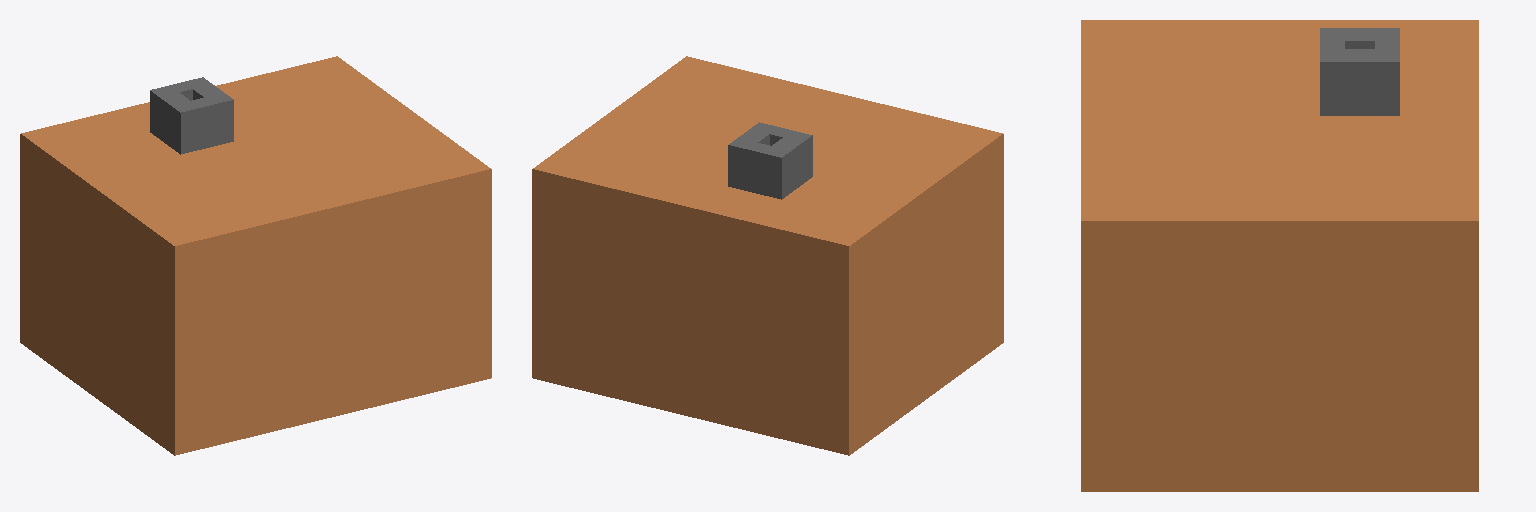
robot.urdf — peg_in_hole_scene_tol0p05mm:
<?xml version="1.0"?>
<robot name="peg_in_hole_scene_tol0p05mm">
  <material name="wood"><color rgba="0.82 0.56 0.35 1.0"/></material>
  <material name="hole_grey"><color rgba="0.4706 0.4706 0.4706 1.0"/></material>
  <link name="box">
    <visual>
      <origin xyz="0.000000 0.000000 0.000000" rpy="0 0 0"/>
      <geometry><box size="0.475000 0.400000 0.300000"/></geometry>
      <material name="wood"/>
    </visual>
    <collision>
      <origin xyz="0.000000 0.000000 0.000000" rpy="0 0 0"/>
      <geometry><box size="0.475000 0.400000 0.300000"/></geometry>
    </collision>
    <visual>
      <origin xyz="-0.050000 0.080000 0.155000" rpy="0 0 0"/>
      <geometry><box size="0.080000 0.080000 0.010000"/></geometry>
      <material name="hole_grey"/>
    </visual>
    <collision>
      <origin xyz="-0.050000 0.080000 0.155000" rpy="0 0 0"/>
      <geometry><box size="0.080000 0.080000 0.010000"/></geometry>
    </collision>
    <visual>
      <origin xyz="-0.024975 0.080000 0.185000" rpy="0 0 0"/>
      <geometry><box size="0.029950 0.080000 0.050000"/></geometry>
      <material name="hole_grey"/>
    </visual>
    <collision>
      <origin xyz="-0.024975 0.080000 0.185000" rpy="0 0 0"/>
      <geometry><box size="0.029950 0.080000 0.050000"/></geometry>
    </collision>
    <visual>
      <origin xyz="-0.075025 0.080000 0.185000" rpy="0 0 0"/>
      <geometry><box size="0.029950 0.080000 0.050000"/></geometry>
      <material name="hole_grey"/>
    </visual>
    <collision>
      <origin xyz="-0.075025 0.080000 0.185000" rpy="0 0 0"/>
      <geometry><box size="0.029950 0.080000 0.050000"/></geometry>
    </collision>
    <visual>
      <origin xyz="-0.050000 0.107525 0.185000" rpy="0 0 0"/>
      <geometry><box size="0.020100 0.024950 0.050000"/></geometry>
      <material name="hole_grey"/>
    </visual>
    <collision>
      <origin xyz="-0.050000 0.107525 0.185000" rpy="0 0 0"/>
      <geometry><box size="0.020100 0.024950 0.050000"/></geometry>
    </collision>
    <visual>
      <origin xyz="-0.050000 0.052475 0.185000" rpy="0 0 0"/>
      <geometry><box size="0.020100 0.024950 0.050000"/></geometry>
      <material name="hole_grey"/>
    </visual>
    <collision>
      <origin xyz="-0.050000 0.052475 0.185000" rpy="0 0 0"/>
      <geometry><box size="0.020100 0.024950 0.050000"/></geometry>
    </collision>
    <inertial>
      <mass value="500"/>
      <friction value="1.0"/>
      <inertia ixx="1000.0" ixy="0.0" ixz="0.0" iyy="1000.0" iyz="0.0" izz="1000.0"/>
    </inertial>
  </link>
</robot>

--- What the picture shows (computed from the rendered views, not written in the file) ---
3 views of the same robot in one strip: view 1: azimuth 30°, elevation 25°; view 2: azimuth 150°, elevation 25°; view 3: azimuth 270°, elevation 25° (orthographic).
Model peg_in_hole_scene_tol0p05mm with 1 links and 0 joints (none), rooted at box, posed every joint at zero.
Links seen in each view (by area): view 1: box; view 2: box; view 3: box.
Link boxes in pixels (x1,y1,x2,y2): box: (20,56,491,455); box: (532,56,1003,455); box: (1081,20,1478,491).
Bounding box of the posed robot: 0.475 × 0.4 × 0.36 m (x, y, z).
Geometry: primitives only (box / cylinder / sphere), no mesh files.
